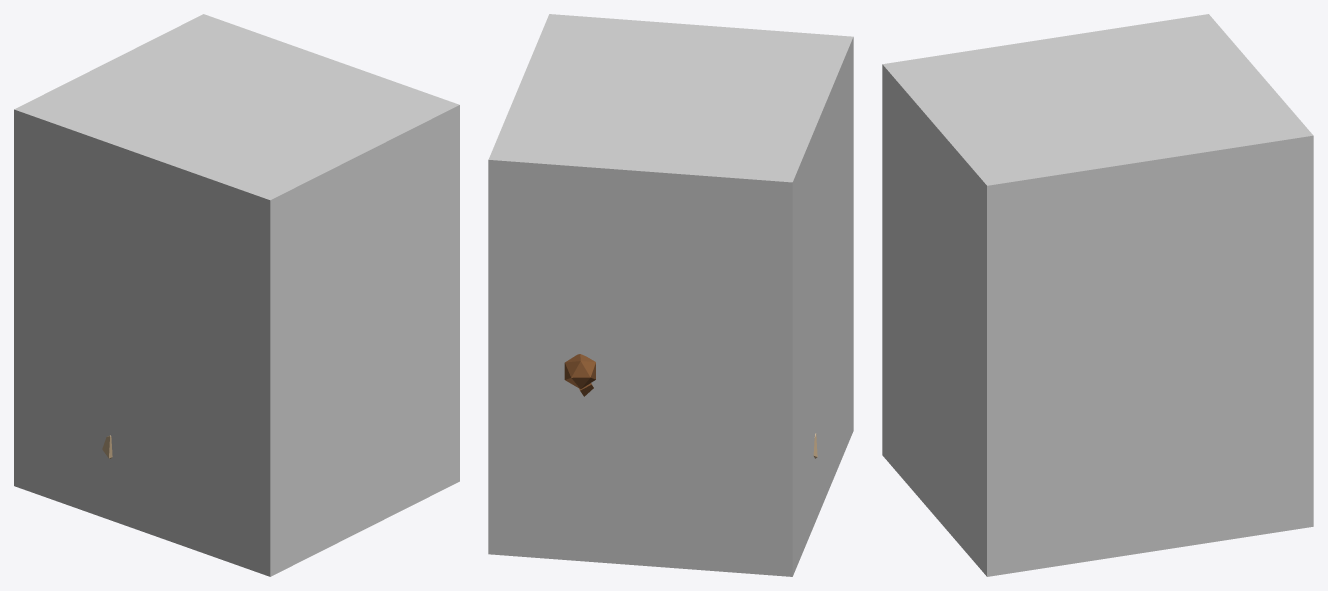
The model's file is jungle_pet1.fbx.
The picture shows the model from 3 angles, left to right: view 1: azimuth 30°, elevation 25°; view 2: azimuth 150°, elevation 25°; view 3: azimuth 270°, elevation 25°; orthographic projection. The views are drawn at different scales.
Parts seen in each view (by area): view 1: Root__0.00_0.48_0.04__0.67_0.95_0.76; view 2: Root__0.00_0.48_0.04__0.67_0.95_0.76, Torso__Root__0.00_0.23_0.00; view 3: Root__0.00_0.48_0.04__0.67_0.95_0.76.
Boxes of the visible parts, x1=… form: Root__0.00_0.48_0.04__0.67_0.95_0.76: x1=14, y1=14, x2=459, y2=576; Root__0.00_0.48_0.04__0.67_0.95_0.76: x1=488, y1=14, x2=853, y2=576; Torso__Root__0.00_0.23_0.00: x1=564, y1=354, x2=595, y2=396; Root__0.00_0.48_0.04__0.67_0.95_0.76: x1=882, y1=14, x2=1313, y2=576.
Size of the model in its own units: 25.06 by 26.6 by 26.57.
1 material, 1 textured.
